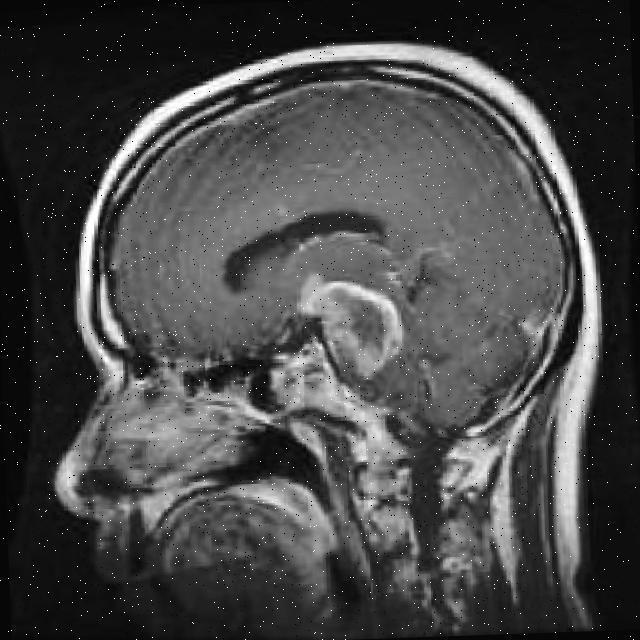LMCI: (271, 240, 419, 382)
